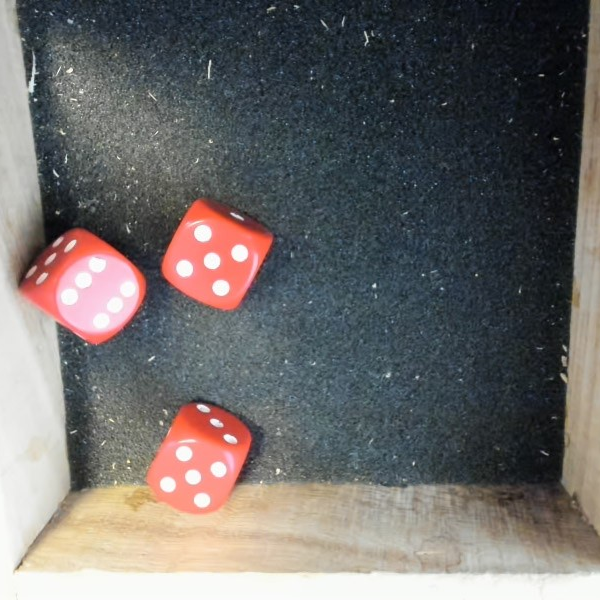red_die_invalid: (13, 212, 164, 360)
red_die_pip5: (137, 389, 263, 529), (152, 189, 280, 320)
